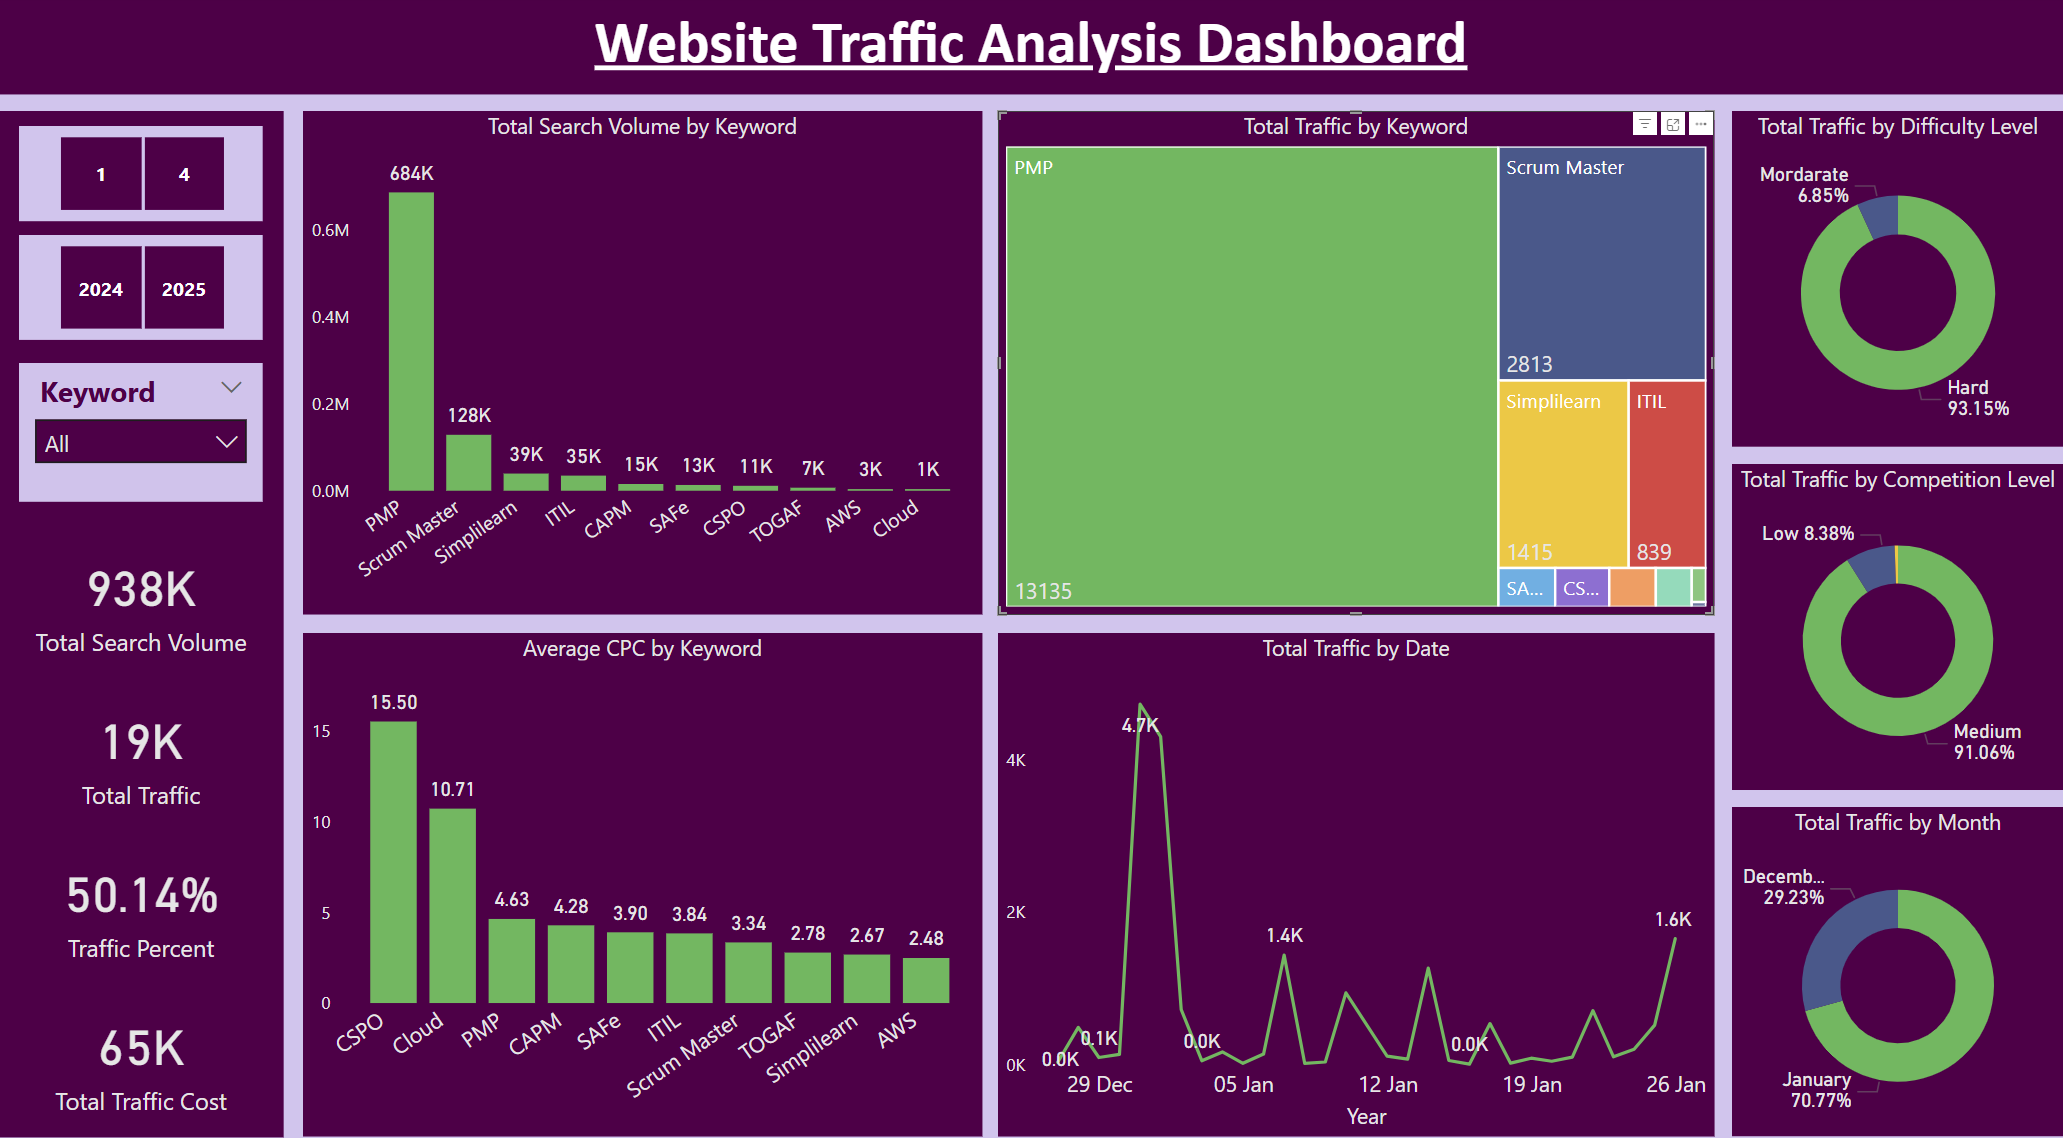

This screenshot's page, from the dashboard's own definition file:
{"tool":"powerbi","page":{"name":"Page 1","canvas":[1280,720],"ordinal":0},"visuals":[{"type":"textbox","box":[0,71.3,177.2,635.7],"z":0},{"type":"slicer","fields":{"Values":["Calendar.Year"]},"box":[13,148.1,151.2,65.1],"z":1000},{"type":"slicer","fields":{"Values":["Calendar.Quarters"]},"box":[13,80.6,151.2,58.9],"z":2000},{"type":"textbox","box":[0,0,1280.1,60.7],"z":3000},{"type":"clusteredColumnChart","fields":{"Category":["traffic_data keywords.Keyword"],"Y":["DAX Measures.Total Search Volume"]},"box":[189,71.3,420.7,312.3],"z":4000},{"type":"columnChart","fields":{"Y":["DAX Measures.Total Traffic"],"Category":["traffic_data keywords.Keyword"]},"box":[619.6,71.3,443.6,312.3],"z":5000},{"type":"donutChart","fields":{"Y":["DAX Measures.Total Traffic"],"Category":["traffic_data keyword_difficulty.Difficulty Level"]},"box":[1074.4,71.3,205.7,208.2],"z":6000},{"type":"card","fields":{"Values":["DAX Measures.Total Volume"]},"box":[13,327.8,151.2,94.8],"z":7000},{"type":"card","fields":{"Values":["DAX Measures.Total Traffic"]},"box":[13,422.6,151.2,94.8],"z":8000},{"type":"card","fields":{"Values":["DAX Measures.Traffic Percent"]},"box":[13,517.4,151.2,94.8],"z":9000},{"type":"card","fields":{"Values":["DAX Measures.Total Traffic Cost"]},"box":[13,612.2,151.2,94.8],"z":10000},{"type":"lineChart","title":"Total Traffic by Date","fields":{"Y":["DAX Measures.Total Traffic"],"Category":["Calendar.Date.Variation.Date Hierarchy.Year","Calendar.Date.Variation.Date Hierarchy.Quarter","Calendar.Date.Variation.Date Hierarchy.Month","Calendar.Date.Variation.Date Hierarchy.Day"]},"box":[619.6,394.7,443.6,312.3],"z":11000},{"type":"slicer","fields":{"Values":["traffic_data keywords.Keyword"]},"box":[13,227.4,151.2,86.1],"z":12000},{"type":"columnChart","fields":{"Y":["DAX Measures.Total CPC"],"Category":["traffic_data keywords.Keyword"]},"box":[189,394.7,420.7,312.3],"z":13000},{"type":"donutChart","fields":{"Y":["DAX Measures.Total Traffic"],"Category":["traffic_data competition.Competition Level"]},"box":[1074.4,290,205.7,202],"z":14000},{"type":"donutChart","fields":{"Y":["DAX Measures.Total Traffic"],"Category":["Calendar.Month"]},"box":[1074.4,502.5,205.7,204.5],"z":15000}]}

Visuals, with their boxes in screenshot pixels (x1, y1, x2, y2), scaled from the page's 1280x720 canvas onto the 2063x1138 screenshot:
textbox: <bbox>0, 113, 286, 1117</bbox>
slicer - Calendar.Year: <bbox>21, 234, 265, 337</bbox>
slicer - Calendar.Quarters: <bbox>21, 127, 265, 220</bbox>
textbox: <bbox>0, 0, 2062, 96</bbox>
clusteredColumnChart - traffic_data keywords.Keyword x DAX Measures.Total Search Volume: <bbox>305, 113, 983, 606</bbox>
columnChart - DAX Measures.Total Traffic x traffic_data keywords.Keyword: <bbox>999, 113, 1714, 606</bbox>
donutChart - DAX Measures.Total Traffic x traffic_data keyword_difficulty.Difficulty Level: <bbox>1732, 113, 2062, 442</bbox>
card - DAX Measures.Total Volume: <bbox>21, 518, 265, 668</bbox>
card - DAX Measures.Total Traffic: <bbox>21, 668, 265, 818</bbox>
card - DAX Measures.Traffic Percent: <bbox>21, 818, 265, 968</bbox>
card - DAX Measures.Total Traffic Cost: <bbox>21, 968, 265, 1117</bbox>
"Total Traffic by Date" lineChart: <bbox>999, 624, 1714, 1117</bbox>
slicer - traffic_data keywords.Keyword: <bbox>21, 359, 265, 496</bbox>
columnChart - DAX Measures.Total CPC x traffic_data keywords.Keyword: <bbox>305, 624, 983, 1117</bbox>
donutChart - DAX Measures.Total Traffic x traffic_data competition.Competition Level: <bbox>1732, 458, 2062, 778</bbox>
donutChart - DAX Measures.Total Traffic x Calendar.Month: <bbox>1732, 794, 2062, 1117</bbox>
